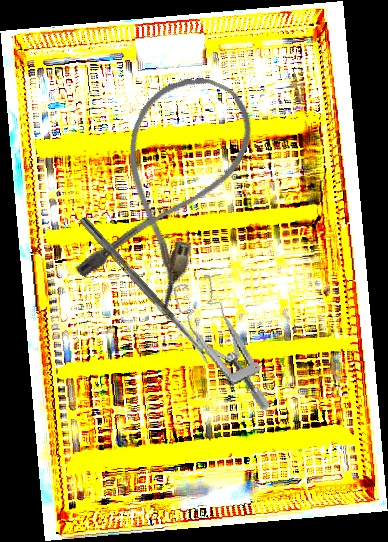Cannula: (67, 58, 267, 316)
Speculum: (170, 266, 273, 426)
Surgical Spoon: (78, 216, 214, 365)
